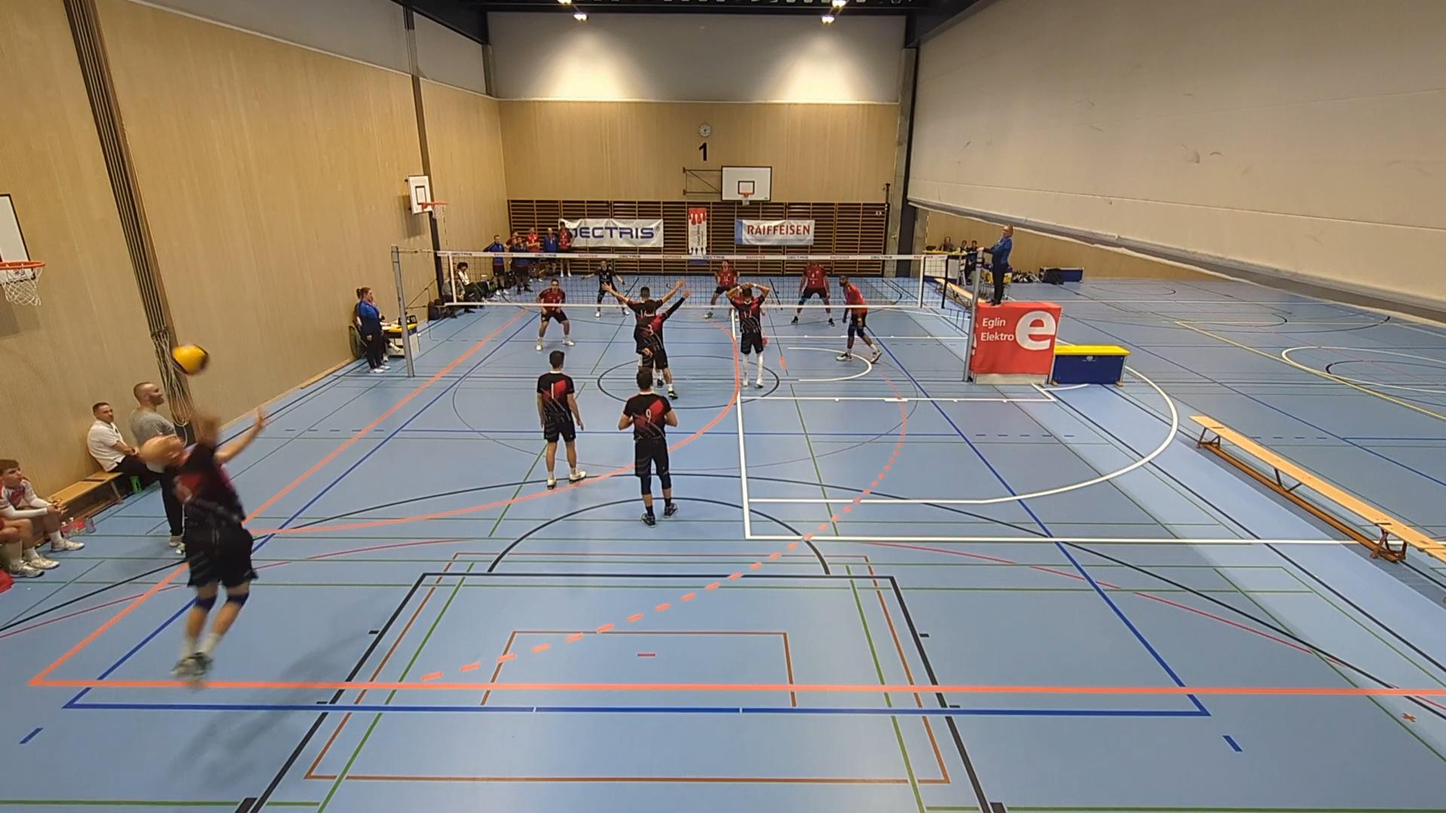Player: (607, 279, 684, 397), (618, 370, 676, 526), (537, 351, 586, 489), (634, 291, 688, 398), (727, 284, 770, 388), (837, 276, 881, 362), (791, 261, 834, 325), (536, 279, 573, 351), (585, 260, 624, 317), (705, 260, 737, 316)
Serve: (121, 382, 263, 688)
ball: (169, 346, 210, 375)
